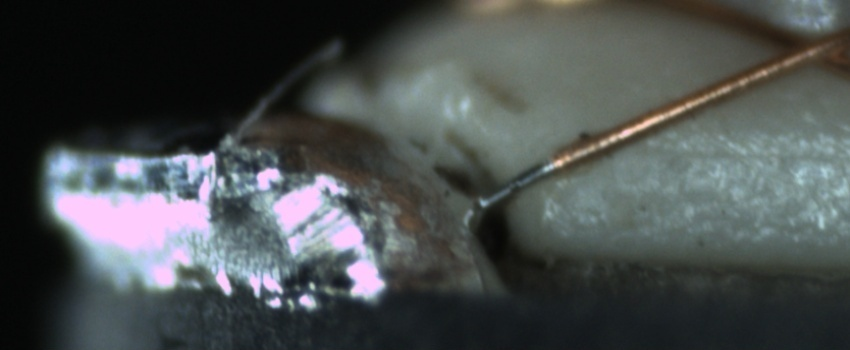CL: (755, 16, 845, 79)
DL: (630, 116, 847, 186)
TS: (478, 158, 557, 210)
TTCW: (479, 138, 595, 212)
